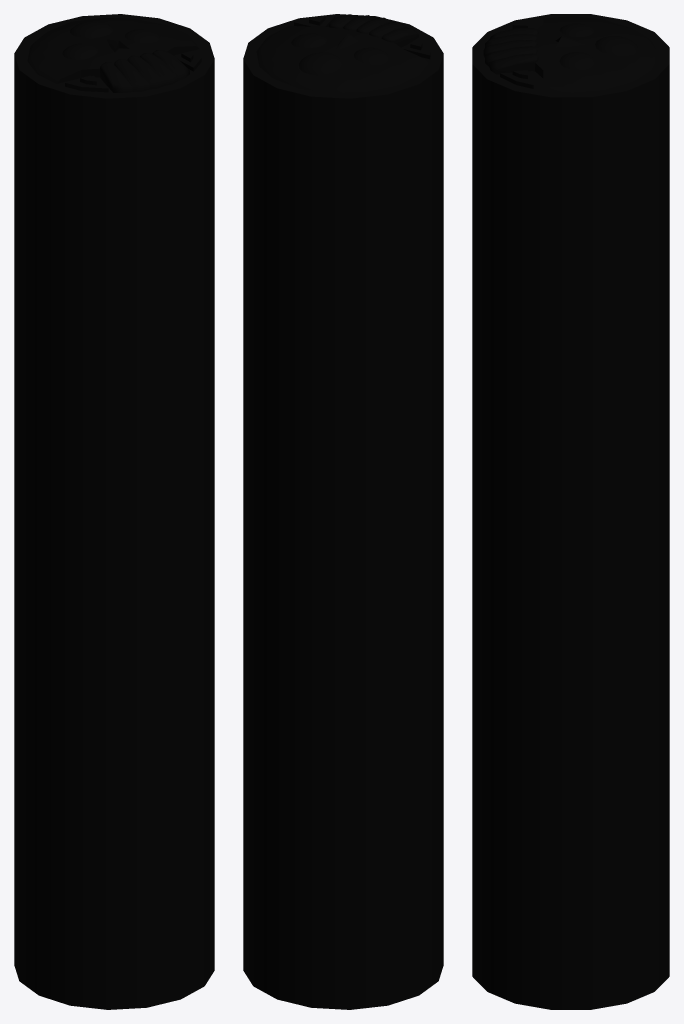
The model's file is elevator02.fbx.
The picture shows the model from 3 angles, left to right: view 1: azimuth 30°, elevation 25°; view 2: azimuth 150°, elevation 25°; view 3: azimuth 270°, elevation 25°; orthographic projection.
Visible parts, largest first — view 1: elevator02_geo; view 2: elevator02_geo; view 3: elevator02_geo.
Boxes of the visible parts, x1=… form: elevator02_geo: x1=14, y1=14, x2=214, y2=1009; elevator02_geo: x1=243, y1=14, x2=443, y2=1009; elevator02_geo: x1=472, y1=14, x2=669, y2=1009.
Size of the model in its own units: 196 by 1021 by 196.
1 material, 1 textured.
